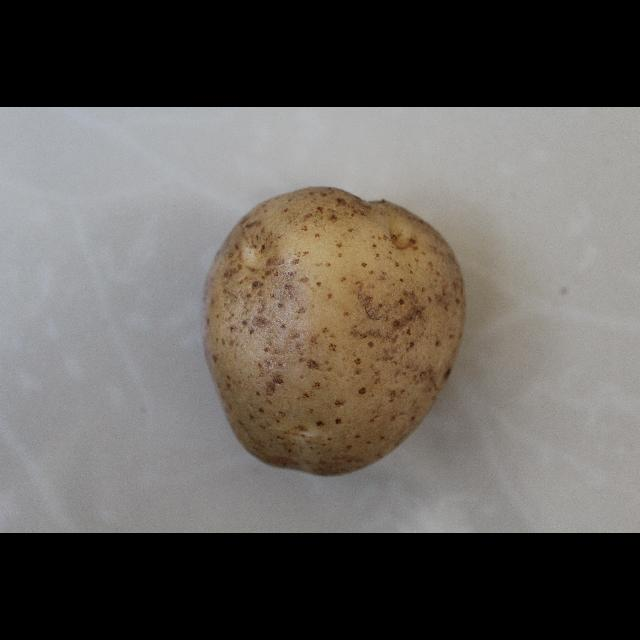Diseased-fungal potato: (193, 178, 473, 484)
